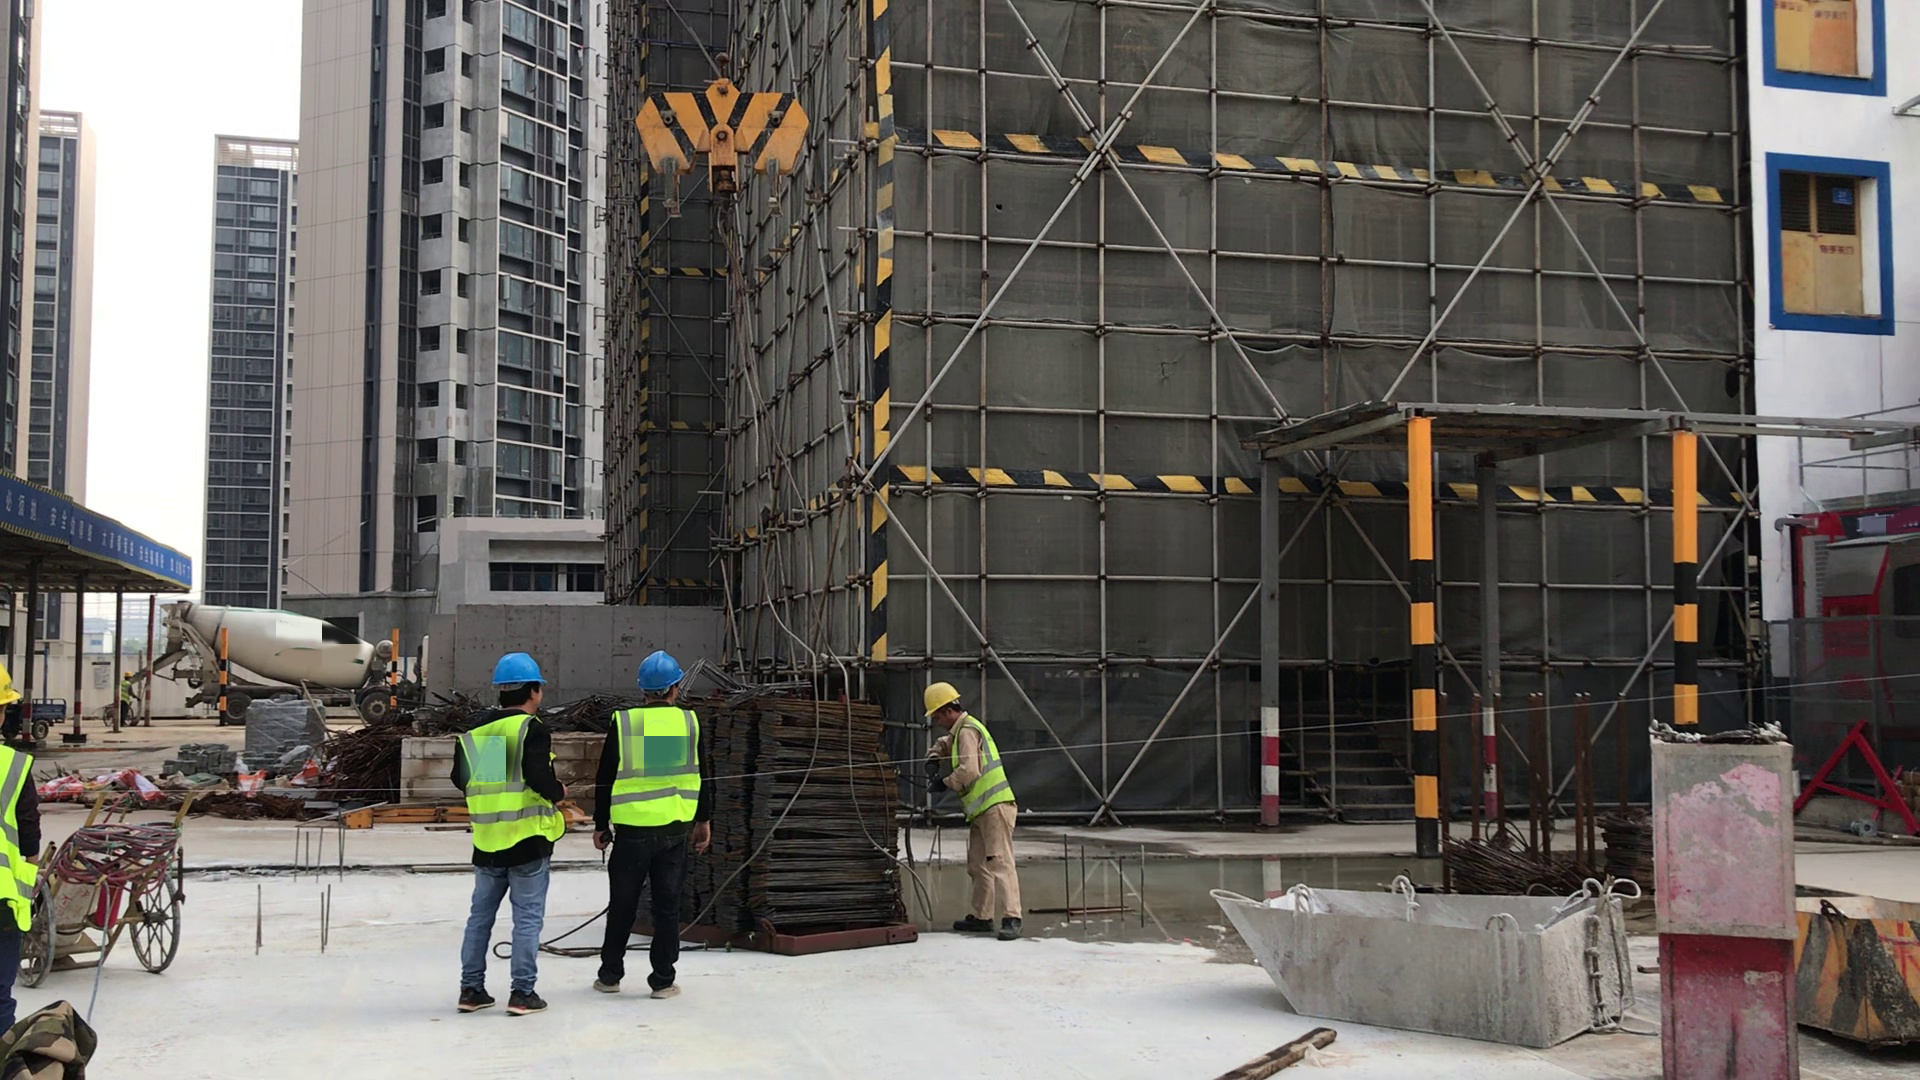handcart: (21, 787, 190, 984)
helmet: (490, 647, 544, 683), (640, 650, 685, 689), (923, 681, 962, 715)
hook: (636, 54, 812, 219)
hopper: (1221, 879, 1635, 1043), (1793, 895, 1920, 1041)
person: (454, 650, 569, 1015), (593, 650, 711, 1000), (923, 677, 1027, 941), (1, 657, 42, 1031), (120, 671, 141, 726)
rebar: (715, 695, 902, 935)
slogan: (4, 473, 190, 591)
vest: (456, 716, 563, 851), (609, 708, 700, 827), (948, 715, 1011, 815)
